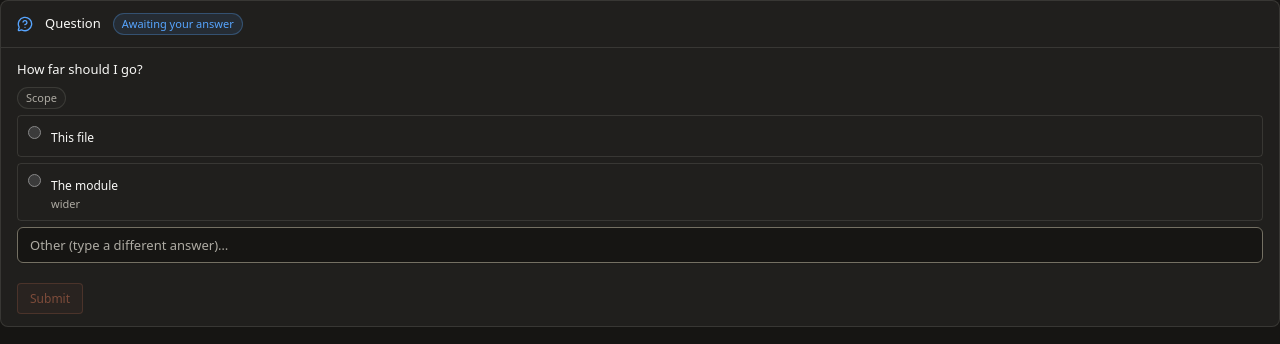
Test: QuestionCard — confirms honestly what happened to the answer › a 410 says the answer was not delivered — no event is coming
The image size is (1280, 344).
Click the text "This file": (73, 138) [51,129,94,146]
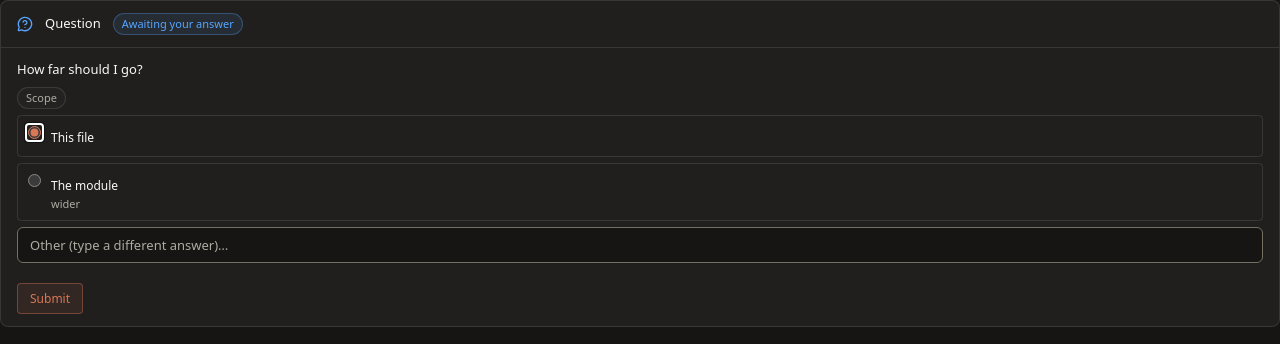
Click the button "Submit": (50, 298) [17,282,83,314]
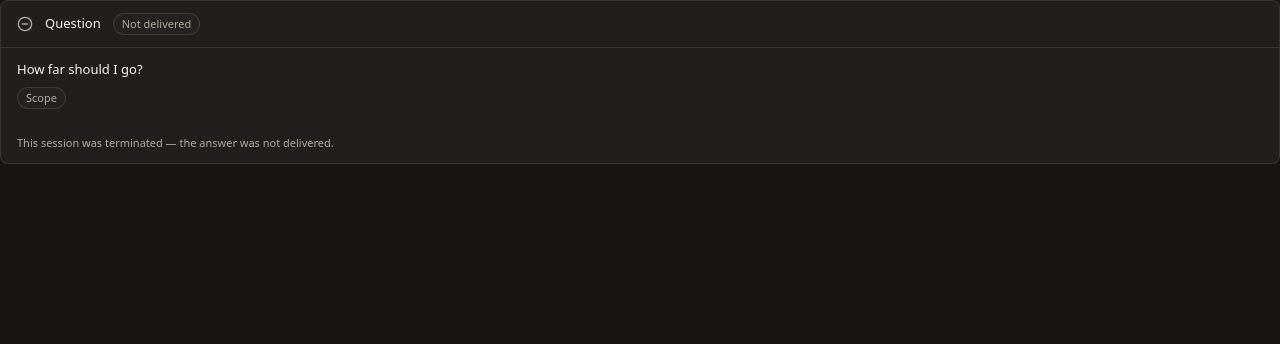
Expected: the text "This session was terminated — the answer was not delivered." is shown, [17,135,334,150]
Expected: the text "Not delivered" is shown, [113,13,200,35]
